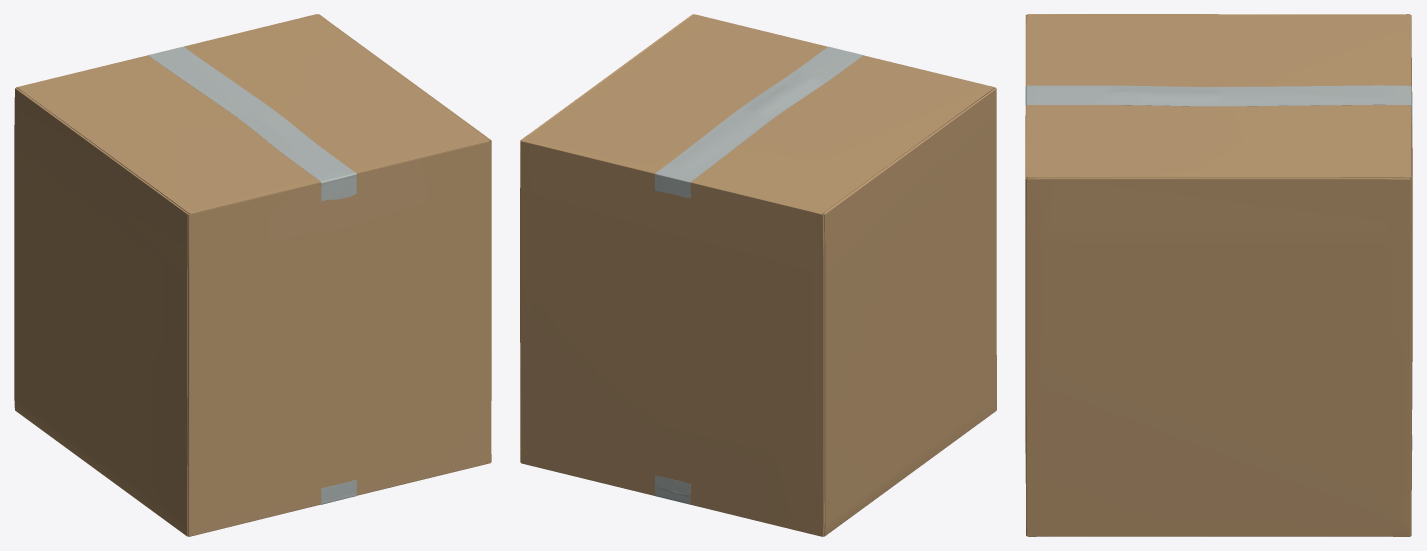
3 renders of one model, left to right at view 1: azimuth 30°, elevation 25°; view 2: azimuth 150°, elevation 25°; view 3: azimuth 270°, elevation 25°, orthographic. The views are drawn at different scales.
Bounding box in the file's own units: 0.5143 × 0.5223 × 0.5077.
